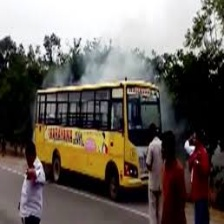smoke: (83, 22, 178, 76)
